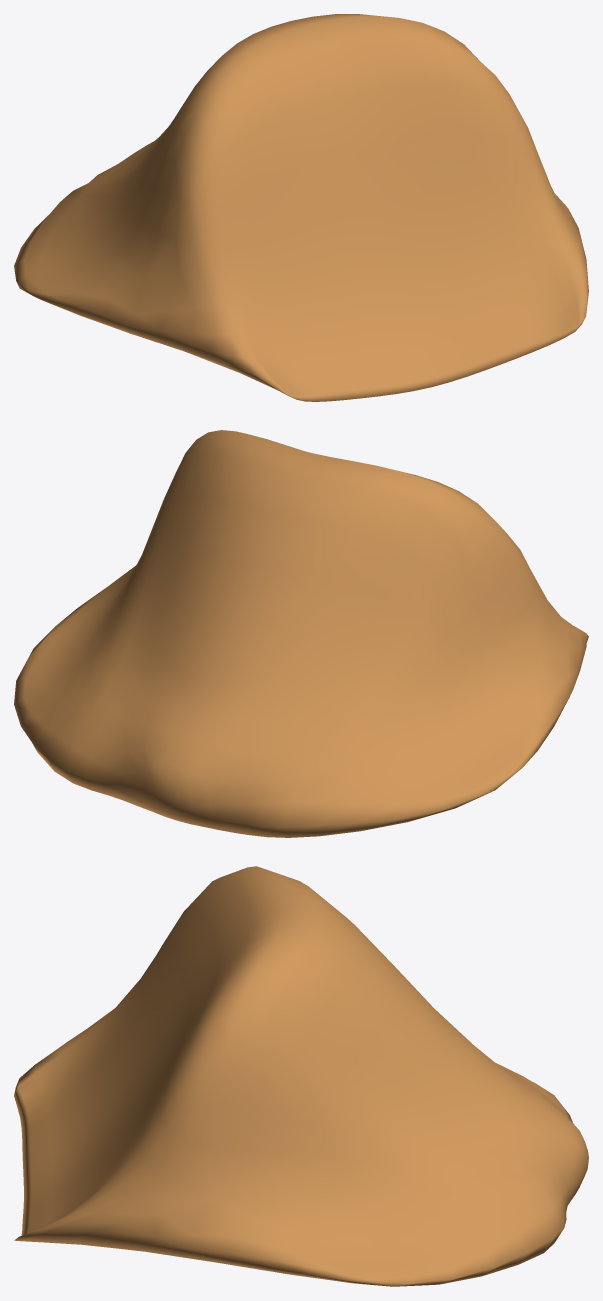
Rendered from SandPatch_BowlingBall.fbx.
The picture shows the model from 3 angles, top to bottom: view 1: azimuth 30°, elevation 25°; view 2: azimuth 150°, elevation 25°; view 3: azimuth 270°, elevation 25°; orthographic projection. The views are drawn at different scales.
Parts seen in each view (by area): view 1: SandPatch_BowlingBall; view 2: SandPatch_BowlingBall; view 3: SandPatch_BowlingBall.
Part boxes in pixels (x1=…): SandPatch_BowlingBall: x1=14, y1=14, x2=588, y2=401; SandPatch_BowlingBall: x1=14, y1=430, x2=588, y2=837; SandPatch_BowlingBall: x1=14, y1=866, x2=588, y2=1286.
Bounding box in the file's own units: 230 × 220 × 128.
